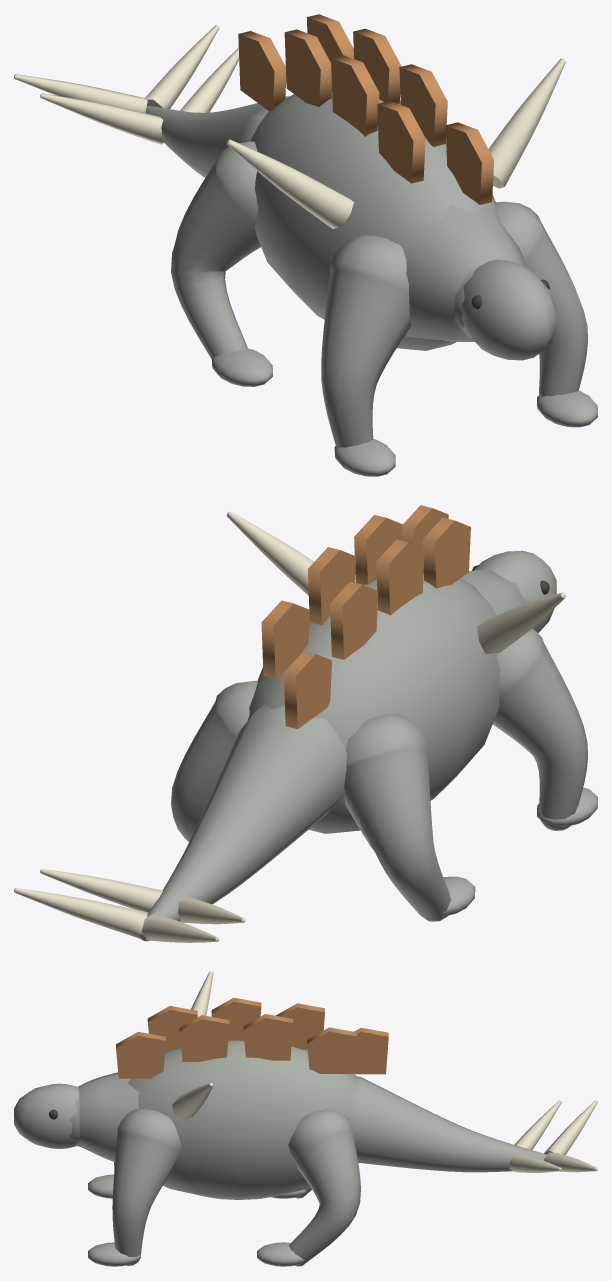
Rendered from kentrosaurus.glb.
3 renders of one model, top to bottom at view 1: azimuth 30°, elevation 25°; view 2: azimuth 150°, elevation 25°; view 3: azimuth 270°, elevation 25°, orthographic. The views are drawn at different scales.
Visible parts, largest first — view 1: kentrosaurus; view 2: kentrosaurus; view 3: kentrosaurus.
Part boxes in pixels (x1,y1,x2,y2): kentrosaurus: (14,14,597,476); kentrosaurus: (14,505,597,942); kentrosaurus: (14,971,597,1266).
Size of the model in its own units: 2.07 by 1.91 by 4.5.
